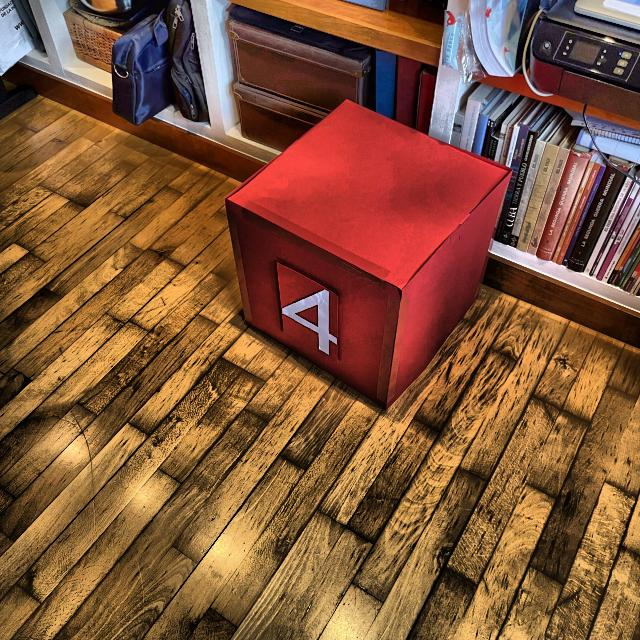four: (279, 288, 340, 357)
red box: (226, 97, 514, 410)
